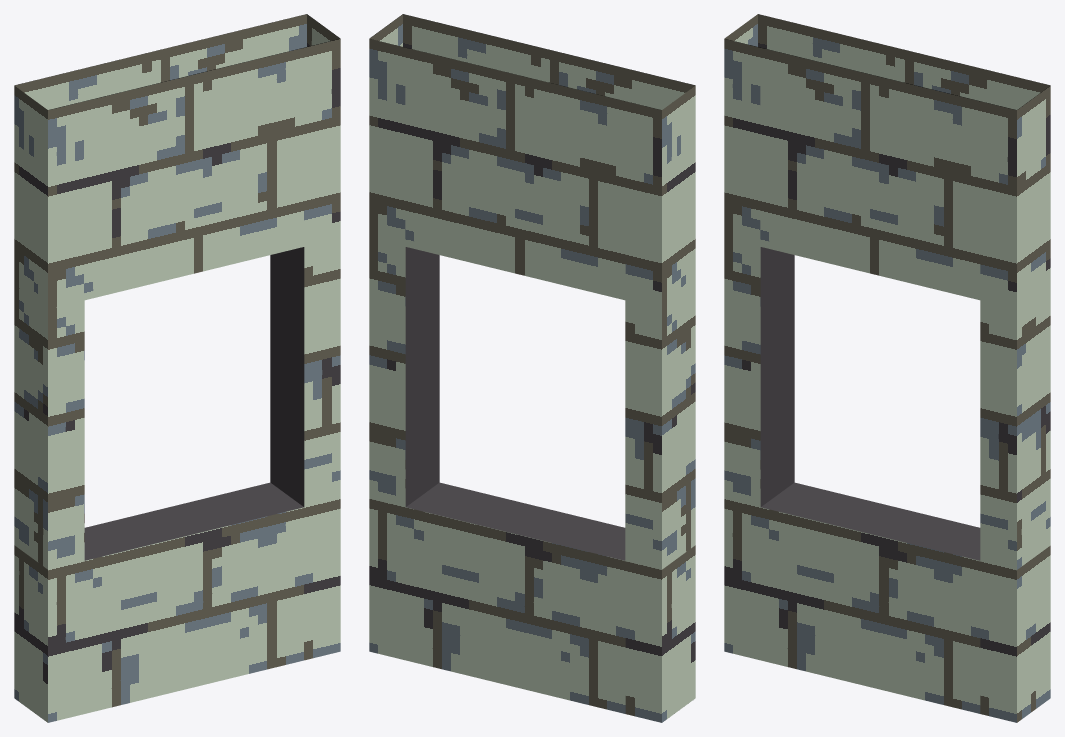
File: window.glb
The picture shows the model from 3 angles, left to right: view 1: azimuth 30°, elevation 25°; view 2: azimuth 150°, elevation 25°; view 3: azimuth 330°, elevation 25°; orthographic projection.
Visible parts, largest first — view 1: Window; view 2: Window; view 3: Window.
Part boxes in pixels (x1=…): Window: x1=14, y1=14, x2=340, y2=722; Window: x1=369, y1=14, x2=695, y2=722; Window: x1=724, y1=14, x2=1050, y2=722.
Size of the model in its own units: 2 by 4 by 0.4.
1 material, 1 textured.
